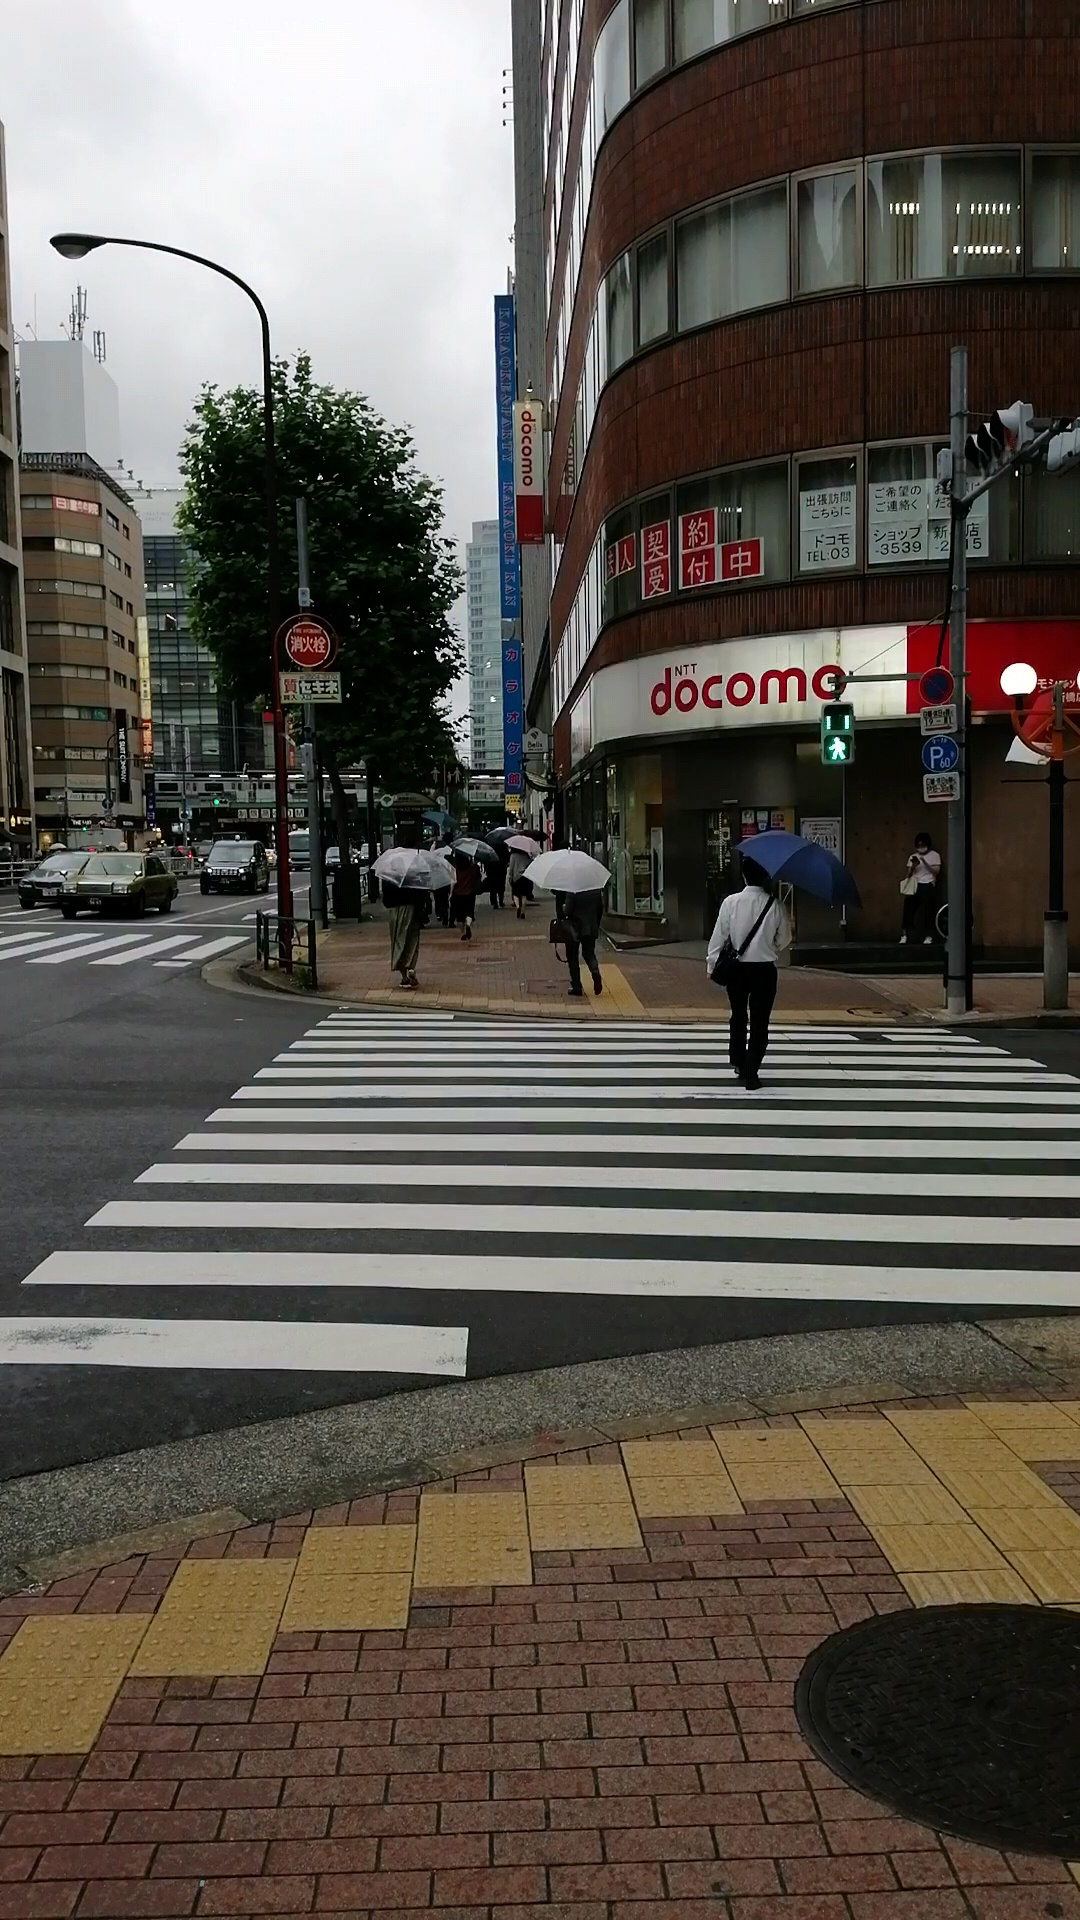green: (822, 703, 855, 765)
